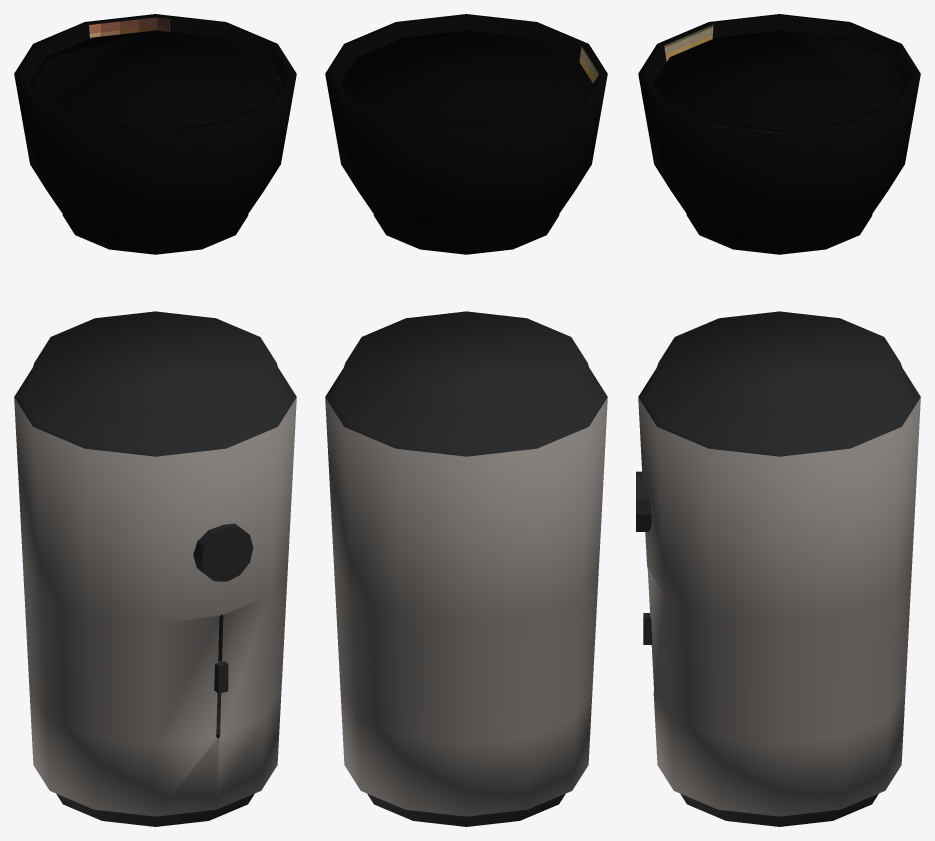
The model's file is coffeegrinders_01_A.fbx.
The picture shows the model from 3 angles, left to right: view 1: azimuth 30°, elevation 25°; view 2: azimuth 150°, elevation 25°; view 3: azimuth 270°, elevation 25°; orthographic projection.
Visible parts, largest first — view 1: coffeegrinders_01_A, Glassforcoffeegrinders_01_A, Glassforcoffeegrinders_01_A.001, Switchforcoffeegrinders_02_A; view 2: coffeegrinders_01_A, Glassforcoffeegrinders_01_A, Glassforcoffeegrinders_01_A.001; view 3: coffeegrinders_01_A, Glassforcoffeegrinders_01_A, Glassforcoffeegrinders_01_A.001, Switchforcoffeegrinders_02_A.
Part boxes in pixels (left/top/right/bottom): coffeegrinders_01_A: left=14, top=311, right=296, bottom=826; Glassforcoffeegrinders_01_A: left=14, top=14, right=296, bottom=254; Glassforcoffeegrinders_01_A.001: left=29, top=30, right=281, bottom=129; Switchforcoffeegrinders_02_A: left=193, top=523, right=253, bottom=581; coffeegrinders_01_A: left=325, top=311, right=607, bottom=826; Glassforcoffeegrinders_01_A: left=325, top=14, right=607, bottom=254; Glassforcoffeegrinders_01_A.001: left=340, top=30, right=592, bottom=129; coffeegrinders_01_A: left=638, top=311, right=920, bottom=826; Glassforcoffeegrinders_01_A: left=638, top=14, right=920, bottom=254; Glassforcoffeegrinders_01_A.001: left=653, top=30, right=905, bottom=129; Switchforcoffeegrinders_02_A: left=636, top=471, right=651, bottom=531.
Bounding box in the file's own units: 14.44 × 39.91 × 14.55.
